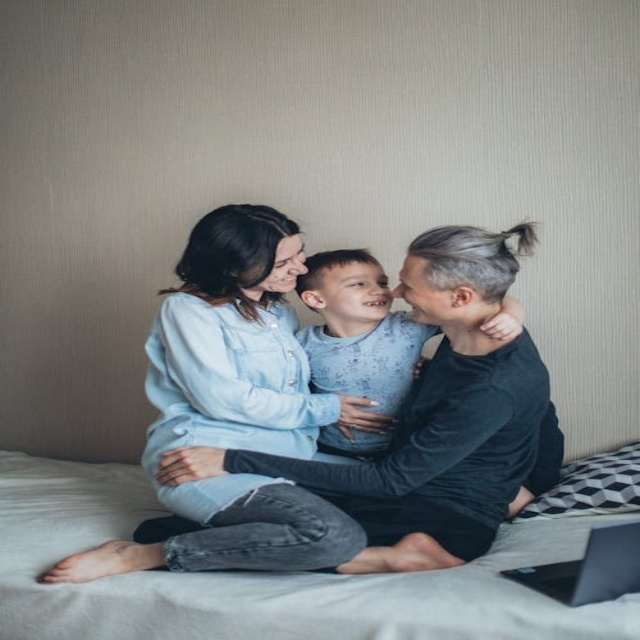Sin_gafas: (269, 243, 314, 271), (334, 272, 394, 290), (399, 275, 430, 294)
Sin_guantes: (154, 444, 227, 484), (334, 394, 399, 438), (475, 308, 526, 342)
Sin_mascara: (351, 295, 388, 317), (403, 298, 434, 323), (269, 275, 300, 288)
